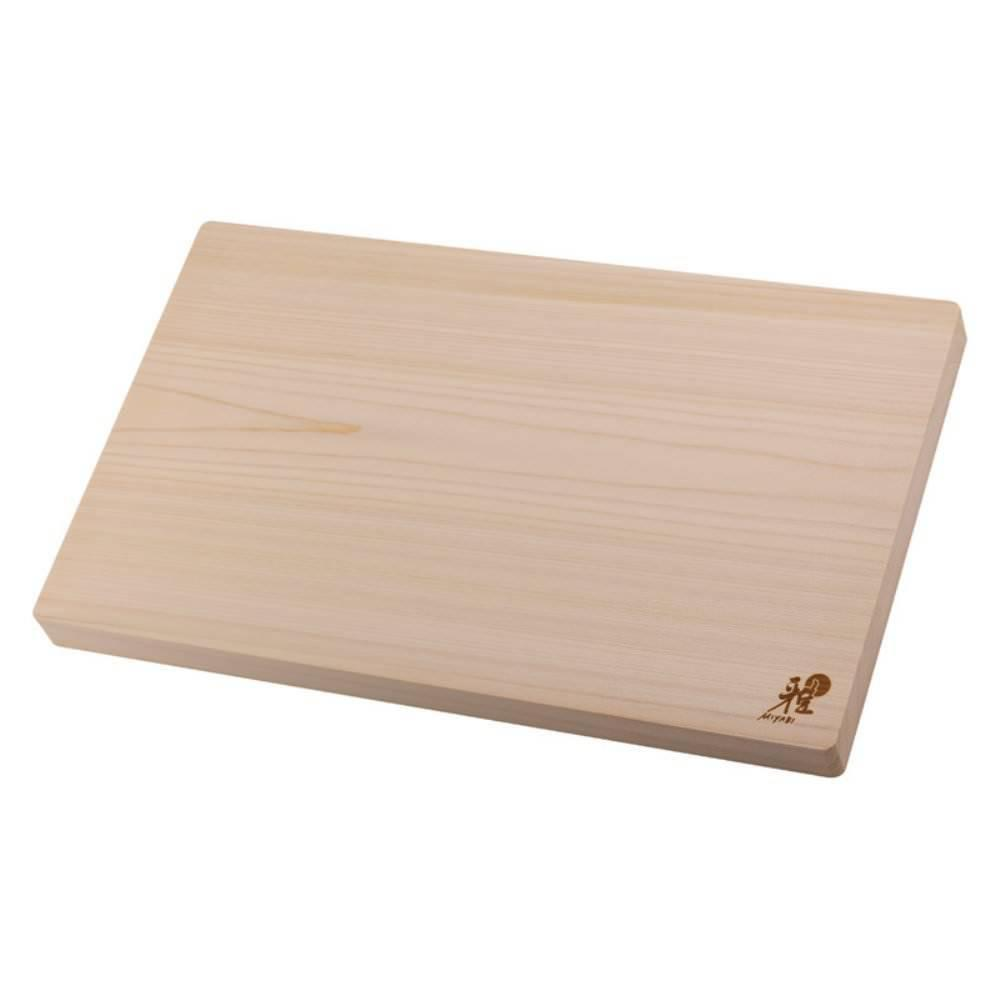gloved_hand: (20, 208, 975, 793)
